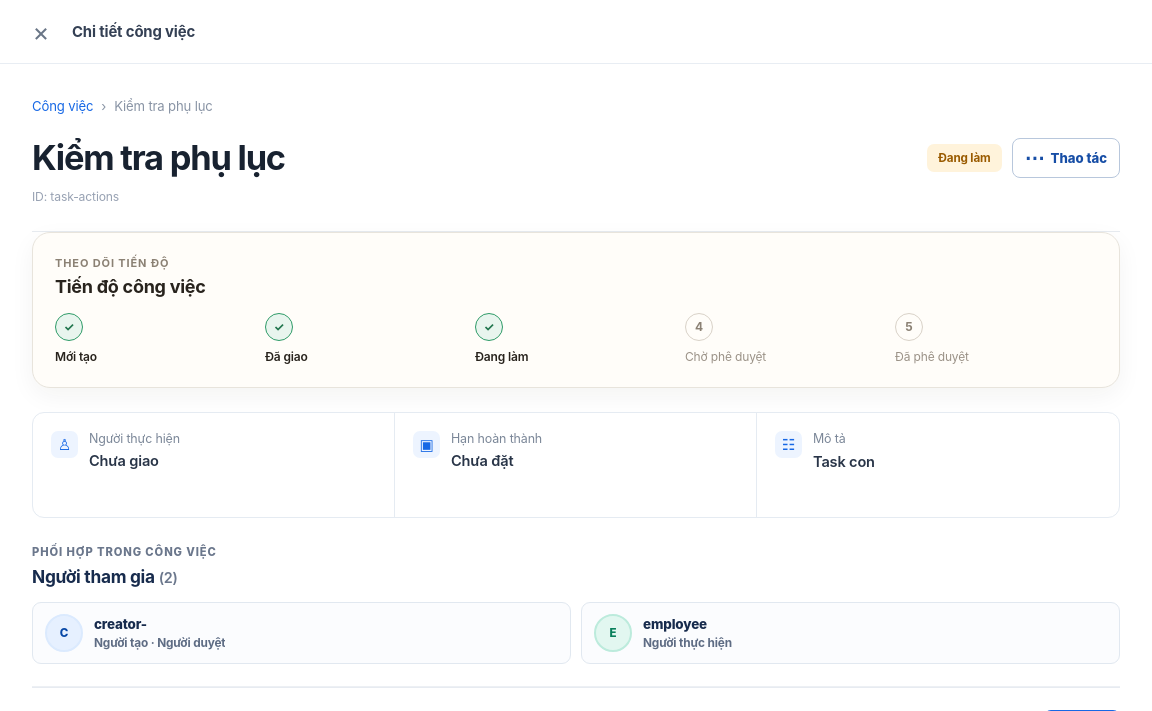
Scenario: puts task actions in the top menu for users who can modify the task
The width and height of the screenshot is (1152, 711).
Click the button "⋯ Thao tác" at {"x": 1066, "y": 158}, box [1012,138,1120,178]
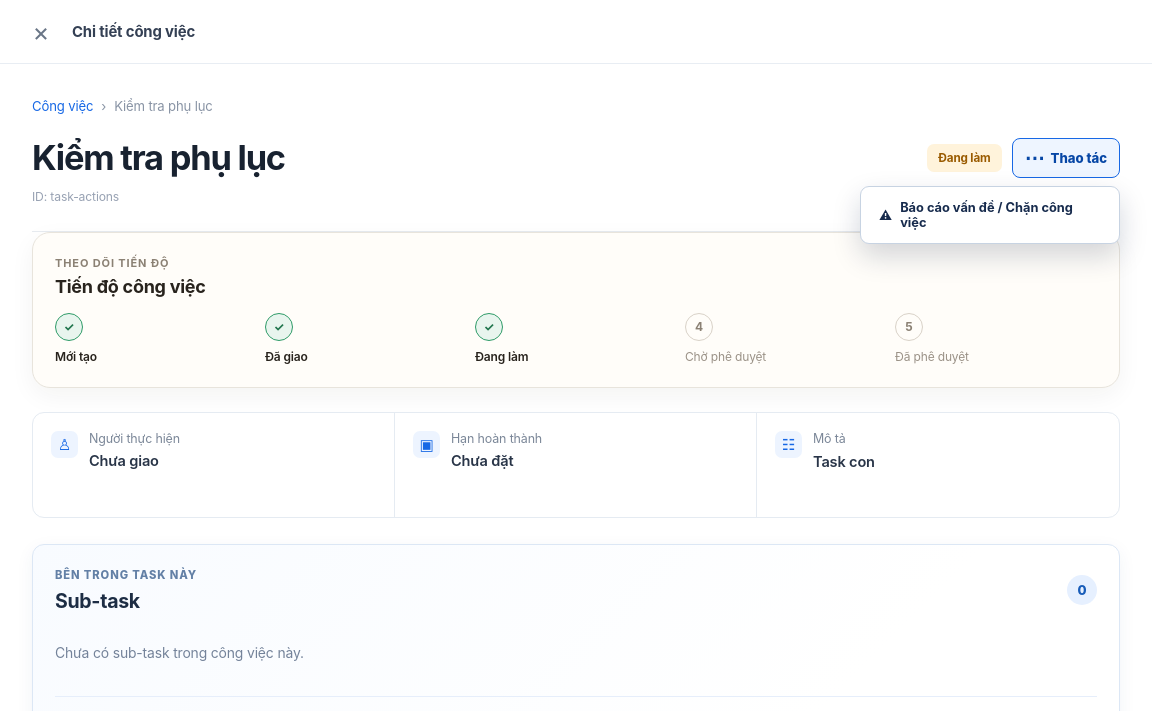
Expected: the menu item "⚠ Báo cáo vấn đề / Chặn công việc" is shown, [867,193,1113,237]
